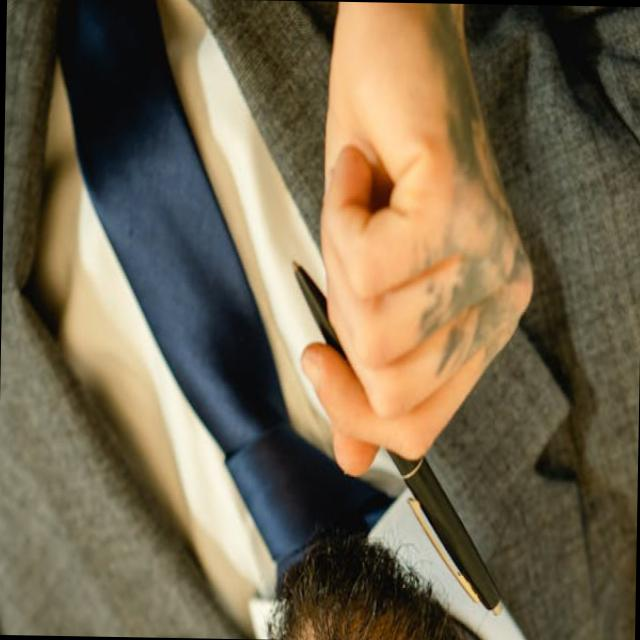pen: (263, 212, 514, 619)
